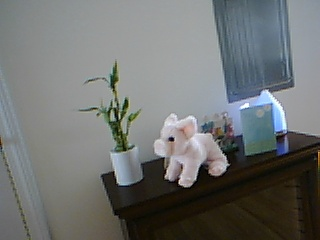piggy: (153, 112, 228, 189)
